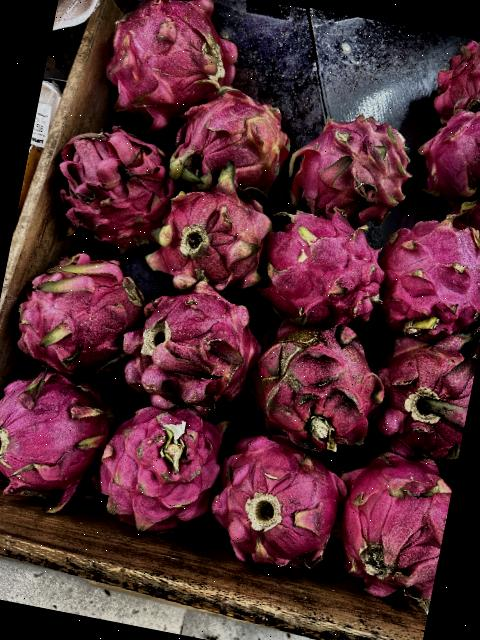buah-naga-matang: (199, 432, 353, 593), (242, 304, 395, 460), (111, 274, 267, 420), (317, 444, 456, 606), (88, 393, 234, 546), (277, 95, 424, 237), (40, 120, 187, 259), (248, 199, 396, 336), (144, 162, 280, 310), (10, 240, 146, 386), (94, 0, 246, 128), (158, 82, 302, 208), (0, 363, 113, 515), (367, 206, 480, 353), (362, 332, 479, 466), (398, 89, 480, 209), (434, 36, 480, 134)
